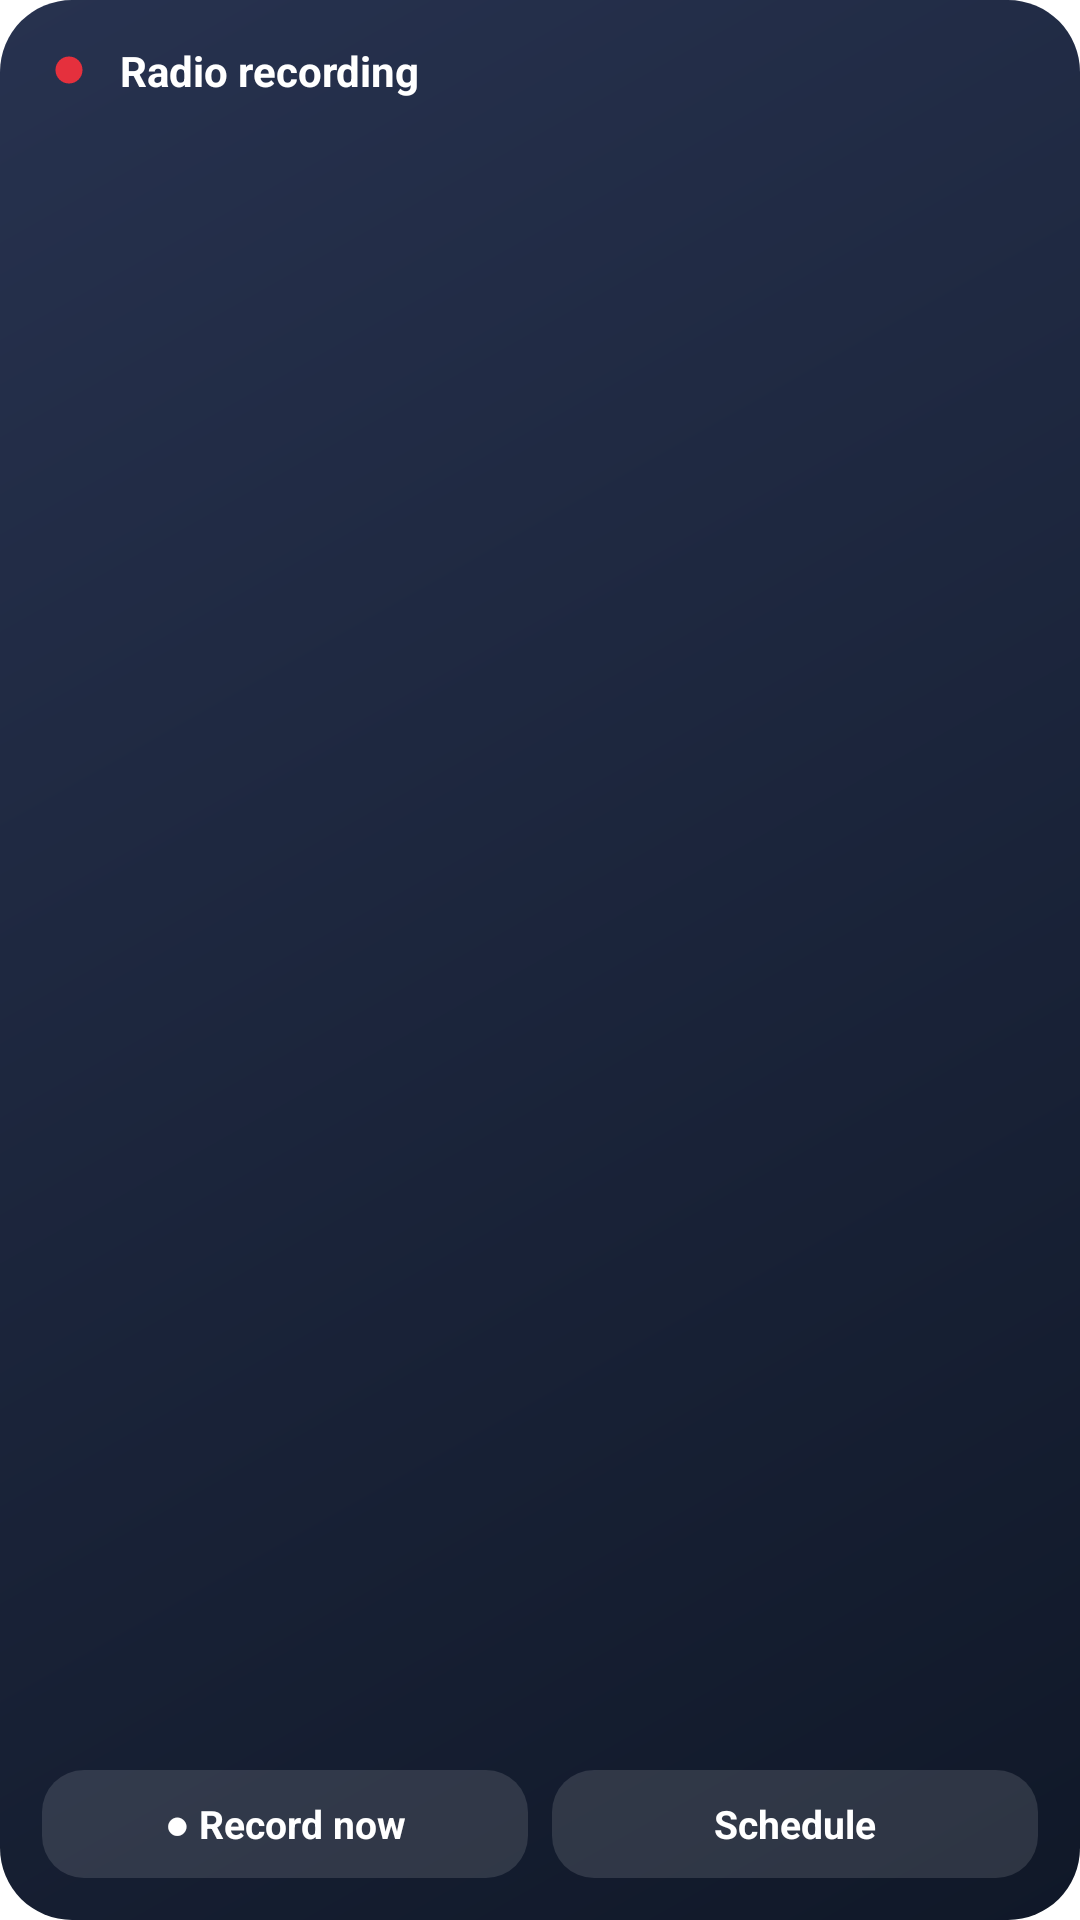

Where icons sit on this 1080 x 1920 app screen, as (x1, y1, x2, y2):
wic rec: (55, 56, 83, 84)
